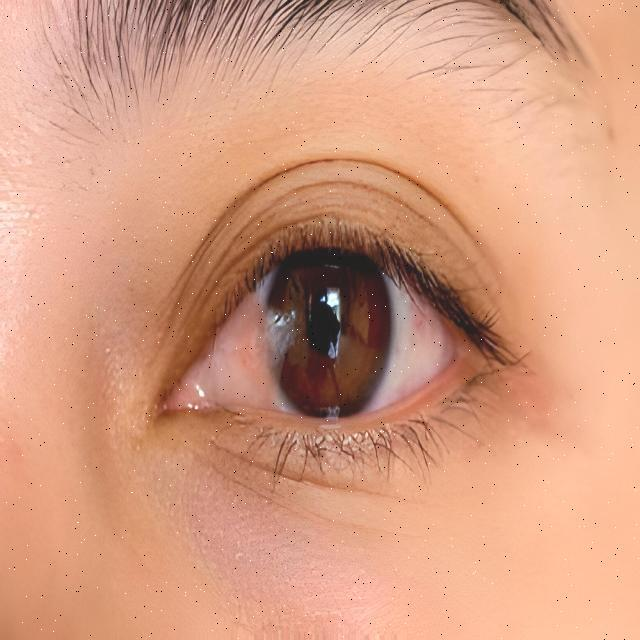Pterygium: (181, 279, 307, 422)
